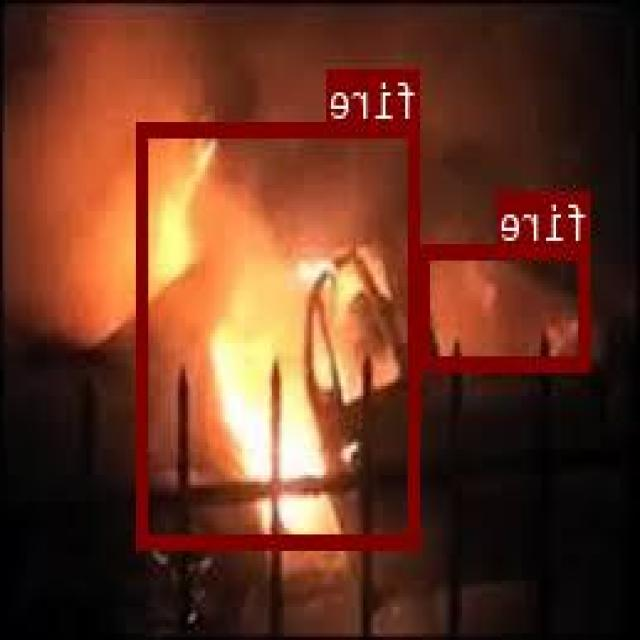fire: (140, 120, 420, 546), (421, 243, 593, 367)
